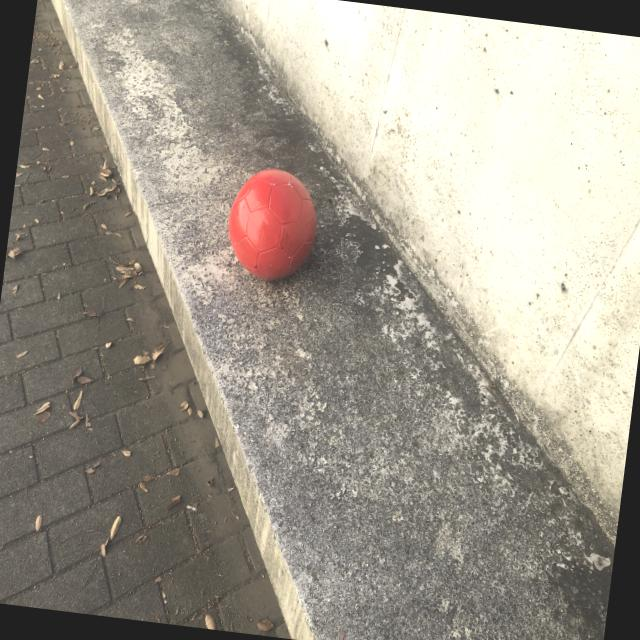red_ball: (221, 161, 324, 287)
